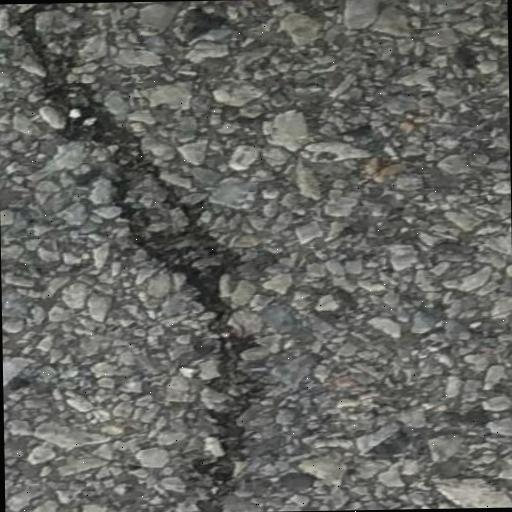spalling: (13, 10, 261, 510)
